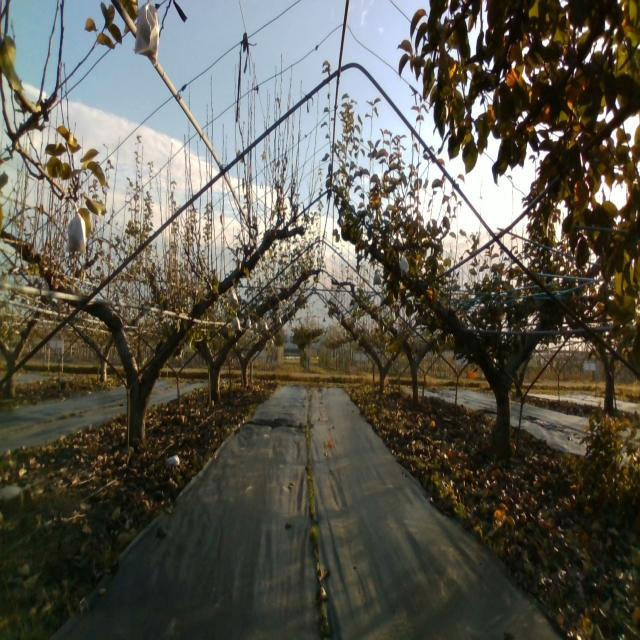pearbags: (133, 0, 160, 59), (65, 207, 87, 253)
